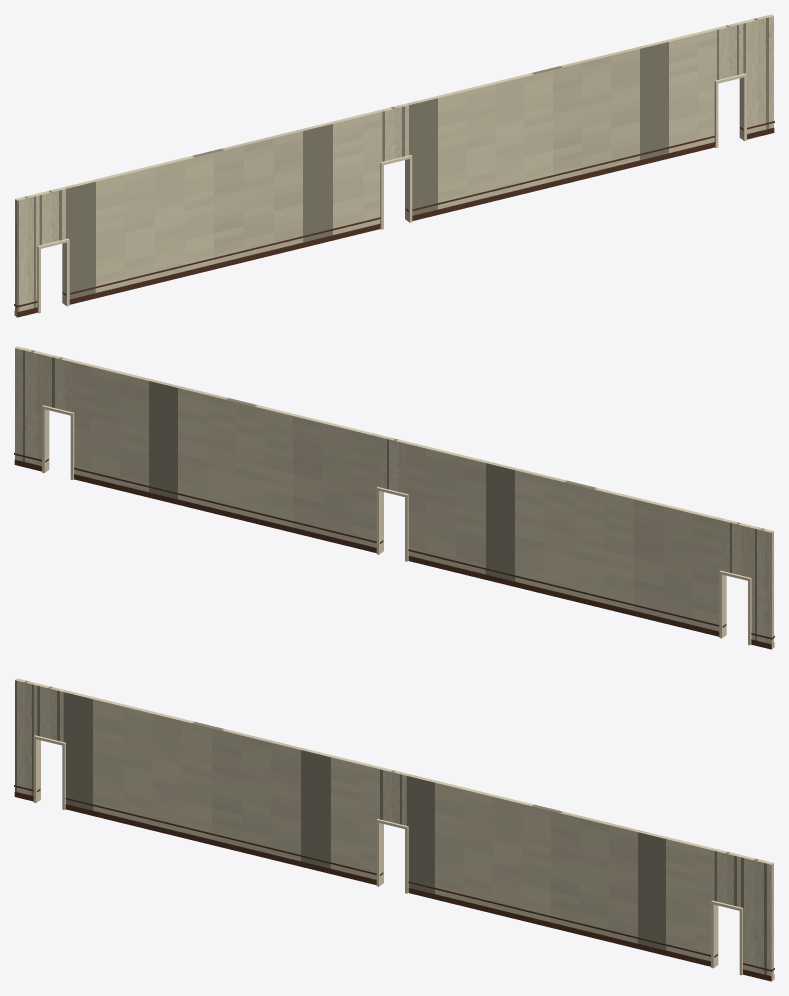
The model's file is rear.glb.
3 views of the same model, one above another, from view 1: azimuth 30°, elevation 25°; view 2: azimuth 150°, elevation 25°; view 3: azimuth 330°, elevation 25° (orthographic).
Parts seen in each view (by area): view 1: Box3, Box5, Box7, Box1, Box4, Box6, Box9, Box10, Box11, Box23, Box24, Box26; view 2: Box3, Box5, Box7, Box1, Box4, Box6, Box9, Box10, Box11, Box23, Box24, Box26; view 3: Box3, Box5, Box7, Box1, Box4, Box6, Box9, Box10, Box11, Box25, Box23, Box24 (+1 smaller).
Boxes of the visible parts, <box> form: Box3: <box>64,110,382,298</box>; Box5: <box>407,28,716,215</box>; Box7: <box>741,14,773,133</box>; Box1: <box>15,193,39,316</box>; Box4: <box>69,224,380,304</box>; Box6: <box>412,142,714,220</box>; Box9: <box>37,187,65,245</box>; Box10: <box>380,103,408,161</box>; Box11: <box>715,22,743,79</box>; Box23: <box>69,229,339,299</box>; Box24: <box>62,217,380,295</box>; Box26: <box>405,135,714,211</box>; Box3: <box>406,442,724,631</box>; Box5: <box>72,360,381,547</box>; Box7: <box>15,346,47,465</box>; Box1: <box>749,525,773,648</box>; Box4: <box>408,556,719,636</box>; Box6: <box>74,474,376,552</box>; Box9: <box>723,519,751,577</box>; Box10: <box>380,435,408,493</box>; Box11: <box>45,354,73,411</box>; Box23: <box>430,558,719,630</box>; Box24: <box>408,549,726,627</box>; Box26: <box>74,467,383,543</box>; Box3: <box>63,690,381,879</box>; Box5: <box>406,774,716,961</box>; Box7: <box>741,855,773,980</box>; Box1: <box>15,678,39,795</box>; Box4: <box>65,804,376,884</box>; Box6: <box>408,888,710,966</box>; Box9: <box>37,684,65,741</box>; Box10: <box>380,767,408,825</box>; Box11: <box>714,849,742,907</box>; Box25: <box>408,883,710,960</box>; Box23: <box>66,800,376,879</box>; Box24: <box>65,797,383,875</box>.
Size of the model in its own units: 27.19 by 4 by 0.3.
3 materials, 1 textured.
